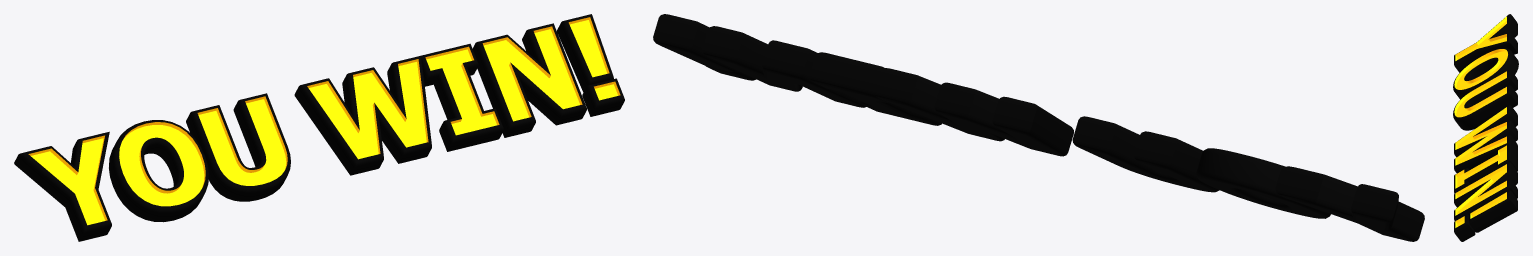
File: youwin2.glb
3 renders of one model, left to right at view 1: azimuth 30°, elevation 25°; view 2: azimuth 150°, elevation 25°; view 3: azimuth 270°, elevation 25°, orthographic. The views are drawn at different scales.
Parts seen in each view (by area): view 1: Text.001; view 2: Text.001; view 3: Text.001.
Boxes of the visible parts, box(x1,y1,x2,y2) form: Text.001: box(14, 14, 624, 241); Text.001: box(653, 14, 1424, 241); Text.001: box(1453, 14, 1518, 241).
Bounding box in the file's own units: 6.19 × 0.7243 × 0.9252.
